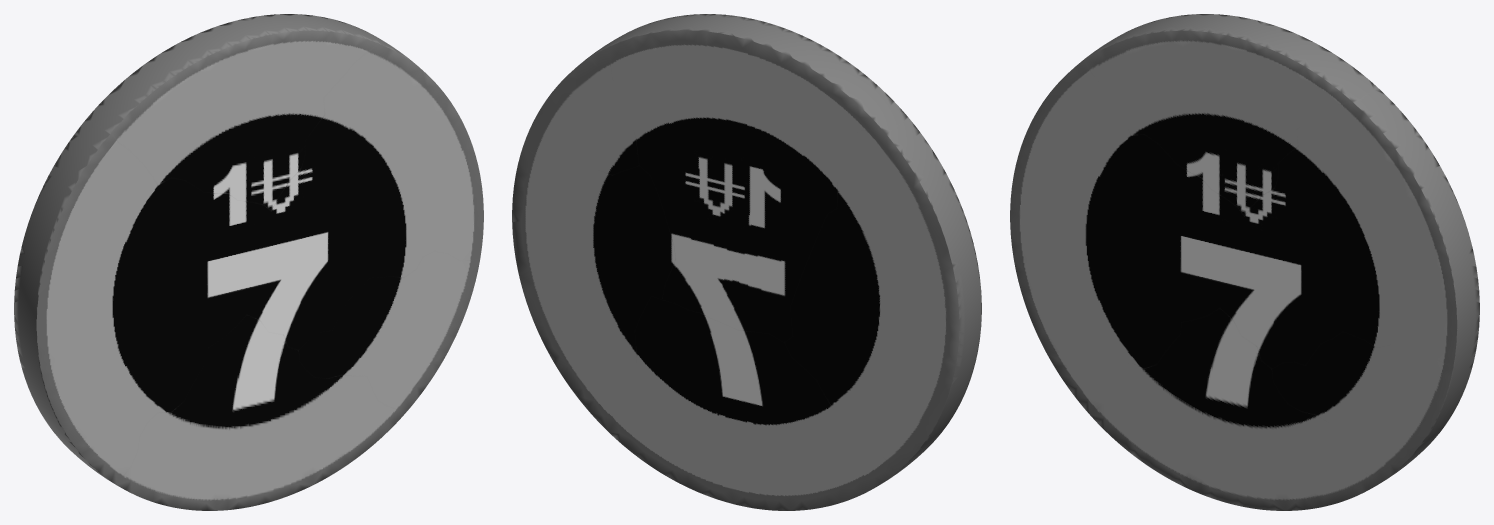
3 renders of one model, left to right at view 1: azimuth 30°, elevation 25°; view 2: azimuth 150°, elevation 25°; view 3: azimuth 330°, elevation 25°, orthographic.
Parts seen in each view (by area): view 1: node_id27; view 2: node_id27; view 3: node_id27.
Part boxes in pixels (x1,y1,x2,y2): node_id27: (14, 14, 483, 510); node_id27: (512, 14, 981, 510); node_id27: (1010, 14, 1479, 510).
Size of the model in its own units: 0.512 by 0.512 by 0.0447.
Materials: 1 (1 with a texture image).
